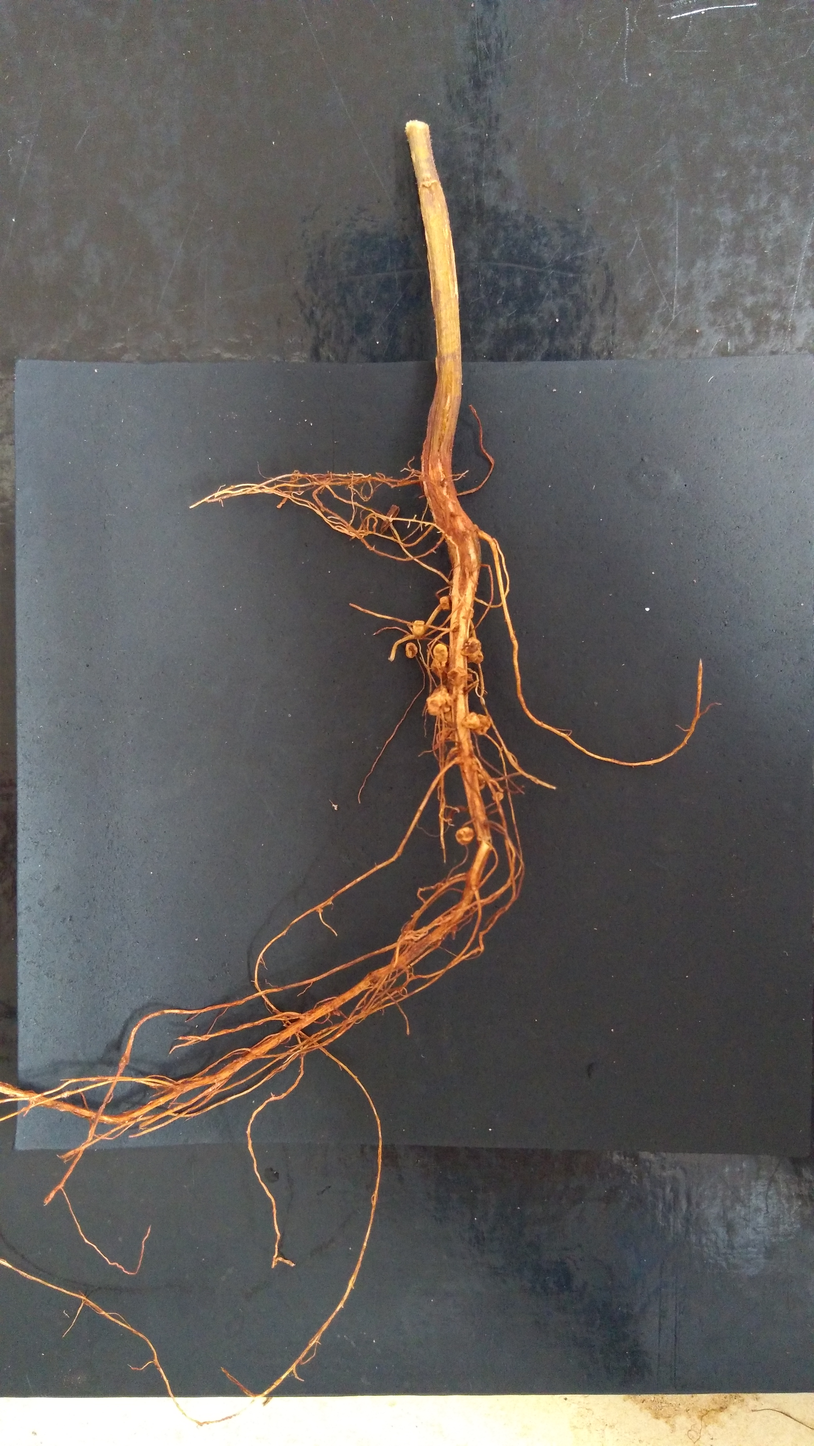nodule: (426, 684, 453, 715), (460, 636, 482, 657), (446, 666, 468, 686), (472, 756, 485, 789), (473, 714, 492, 735), (430, 657, 448, 679), (432, 643, 449, 665), (437, 707, 455, 727), (455, 827, 474, 845), (461, 712, 480, 729), (468, 648, 483, 664), (412, 620, 425, 637), (405, 642, 418, 658), (439, 595, 451, 610), (491, 790, 504, 802), (330, 1009, 342, 1017), (453, 755, 462, 765), (316, 908, 323, 912)
